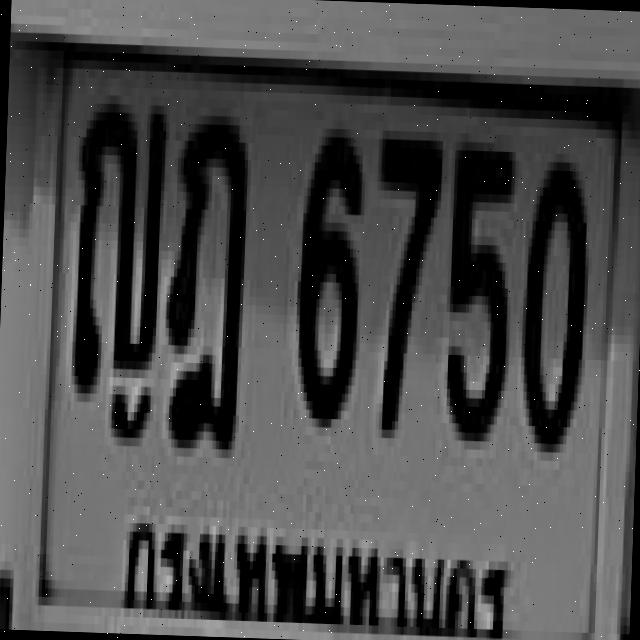0: (515, 152, 589, 444)
22YorYing: (69, 94, 165, 395)
23DorChaDa: (158, 106, 249, 450)
5: (442, 133, 513, 433)
6: (292, 119, 362, 419)
7: (369, 122, 440, 430)
Bangkok: (115, 495, 521, 640)
